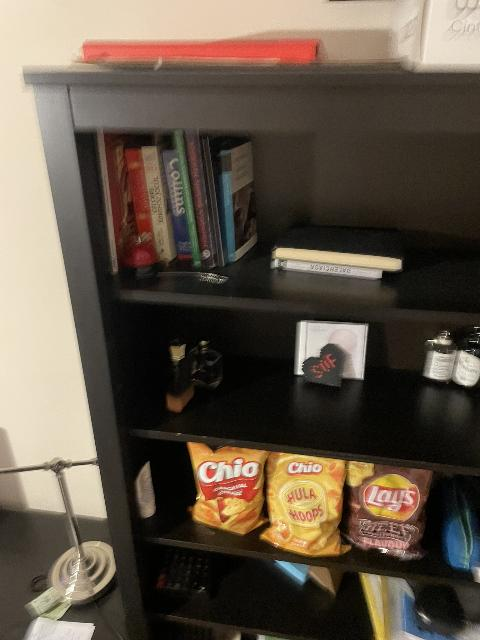Chio Cascaval 125g: (185, 441, 267, 535)
Chio Hula Hoops Cheese 70g: (259, 452, 351, 558)
Lays Beef Grilled Ribs 125g: (341, 462, 433, 561)
